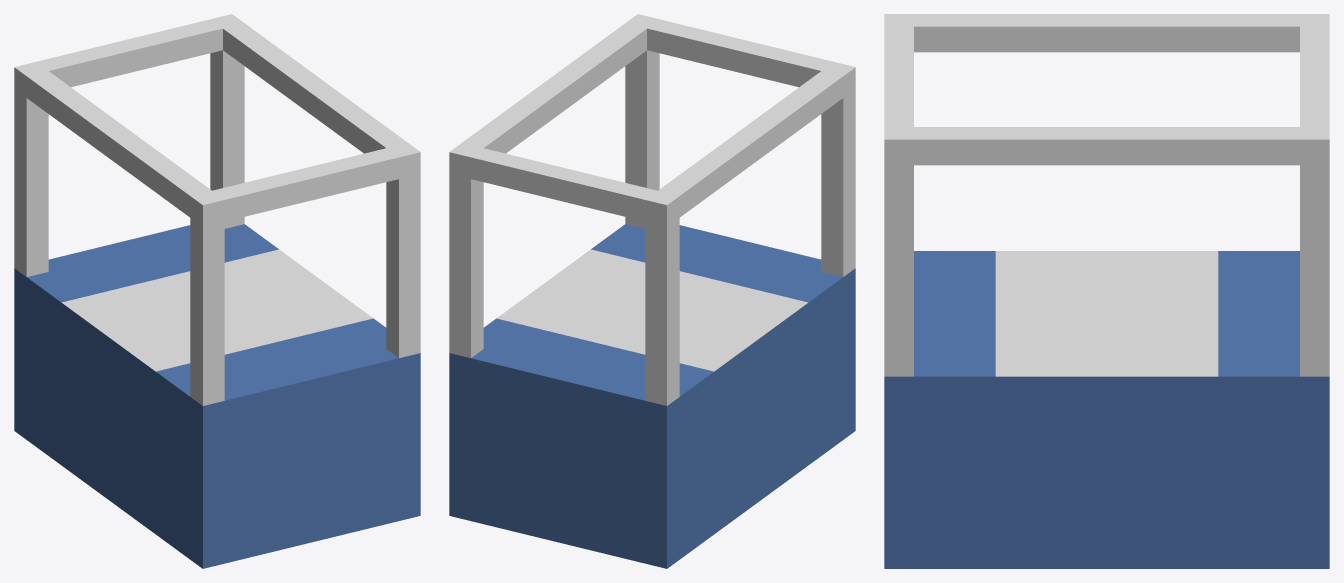
The picture shows the model from 3 angles, left to right: view 1: azimuth 30°, elevation 25°; view 2: azimuth 150°, elevation 25°; view 3: azimuth 270°, elevation 25°; orthographic projection. The views are drawn at different scales.
Visible parts, largest first — view 1: Cube; view 2: Cube; view 3: Cube.
Boxes of the visible parts, <box> form: Cube: <box>14,14,420,568</box>; Cube: <box>449,14,855,568</box>; Cube: <box>884,14,1329,568</box>.
Bounding box in the file's own units: 200 × 319 × 300.
